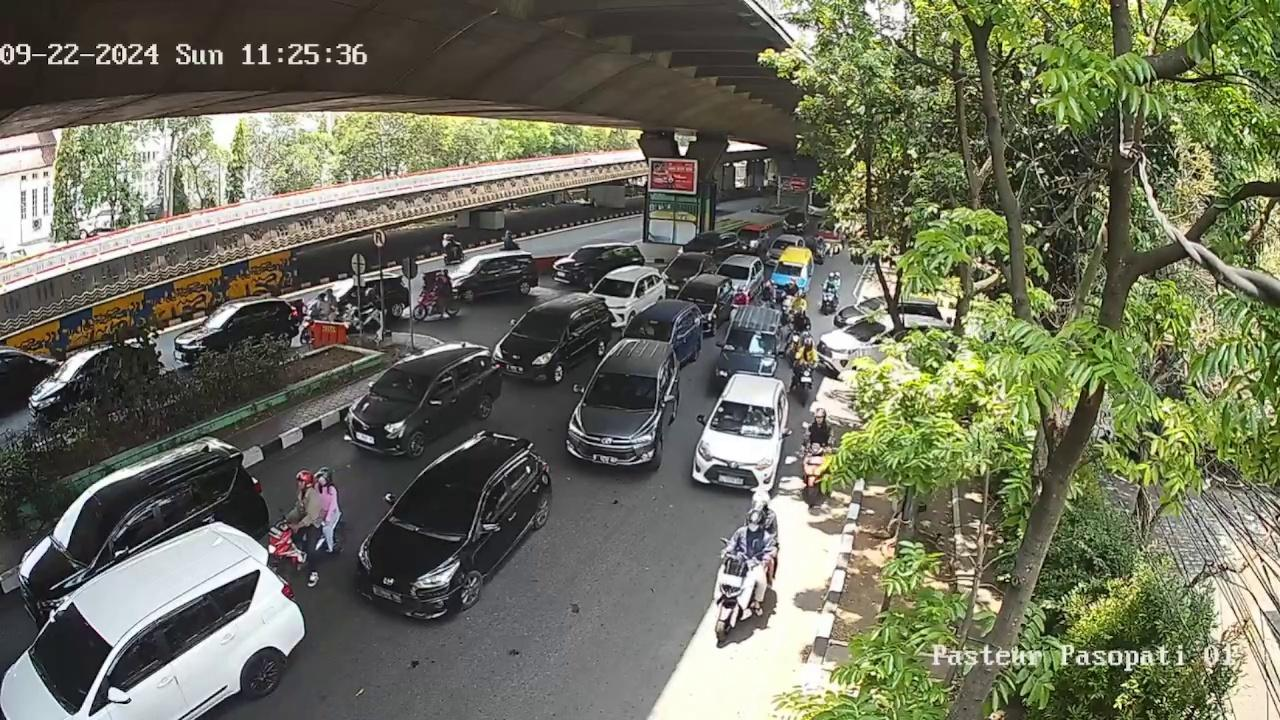pakai: (635, 383, 654, 400), (639, 323, 654, 335)
windshield: (36, 605, 114, 710), (386, 479, 483, 537), (47, 493, 117, 562), (583, 366, 661, 409), (712, 400, 777, 438), (373, 365, 430, 406), (517, 309, 572, 338), (726, 325, 777, 356), (627, 314, 672, 340), (589, 278, 634, 297), (676, 284, 716, 302), (775, 259, 808, 275), (717, 263, 750, 278), (671, 256, 703, 271)
